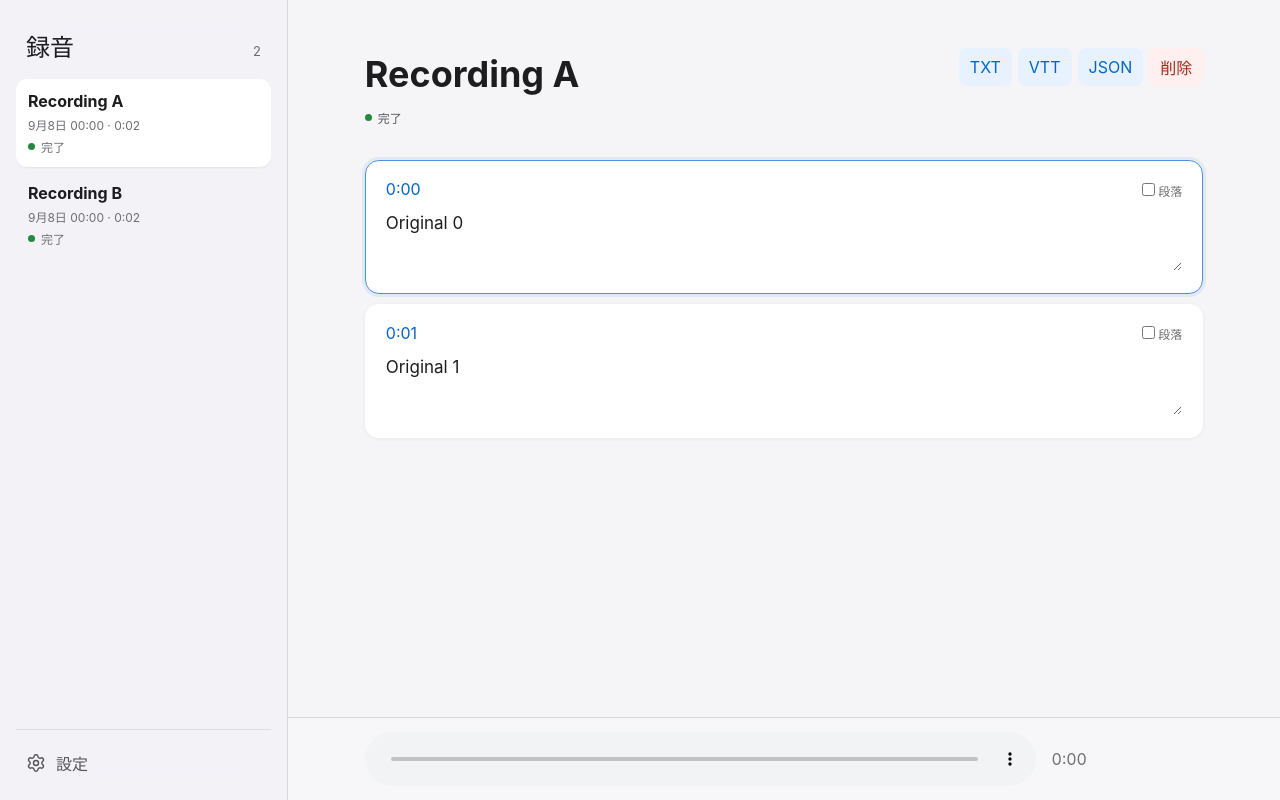
Test: preserves other unsaved text and paragraph edits when saving one utterance
The width and height of the screenshot is (1280, 800).
Replace the text in the text box named "0:00の発話" with "Saved edit": (784, 239) x1=386 y1=208 x2=1182 y2=271
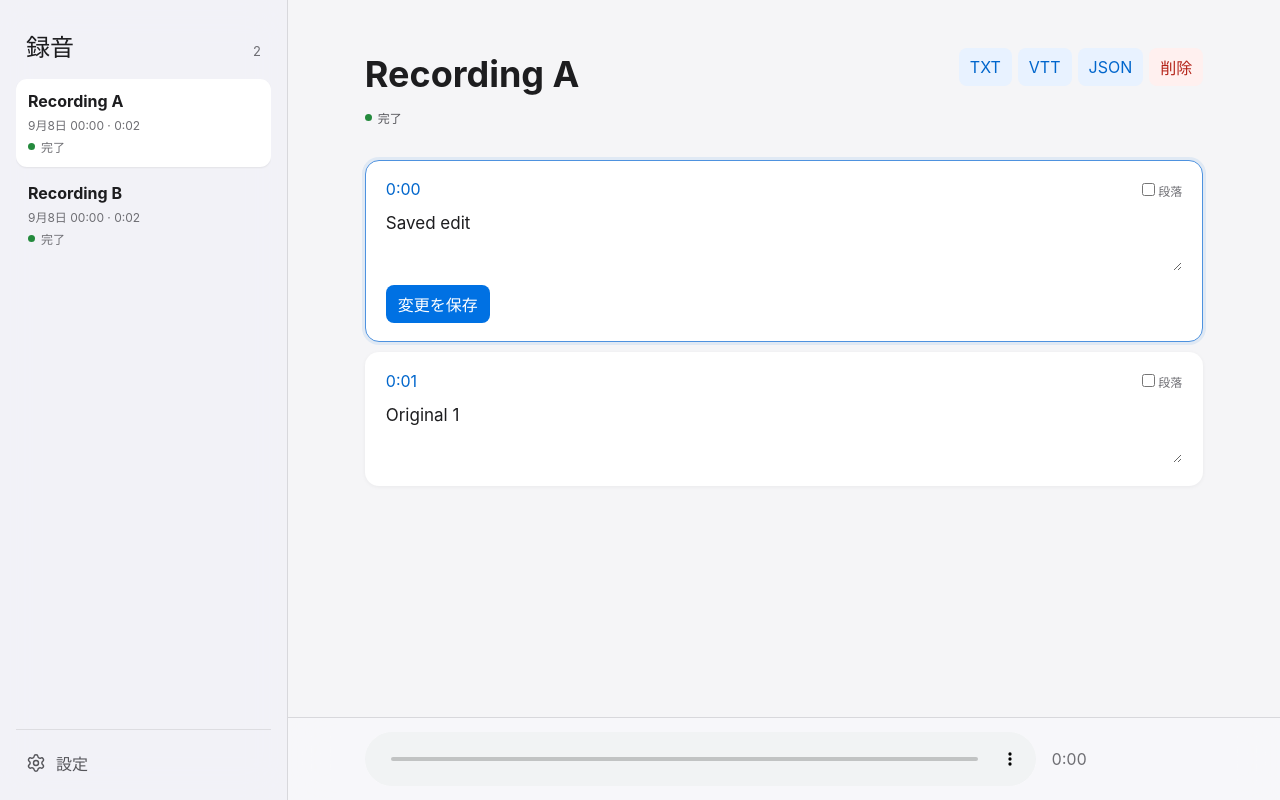
Replace the text in the text box named "0:01の発話" with "Unsaved draft": (784, 431) x1=386 y1=400 x2=1182 y2=463
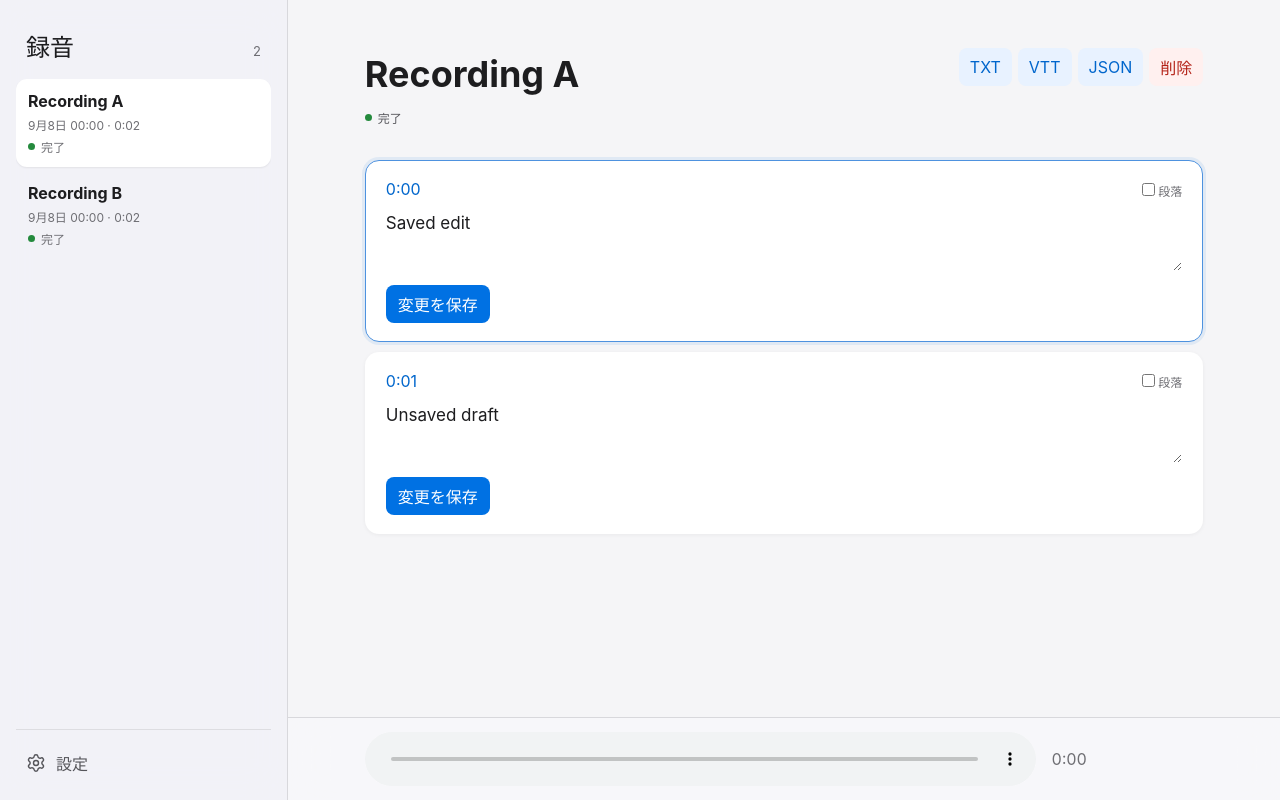
Click the 2nd checkbox labelled "段落": (1149, 381) x1=1142 y1=374 x2=1155 y2=387
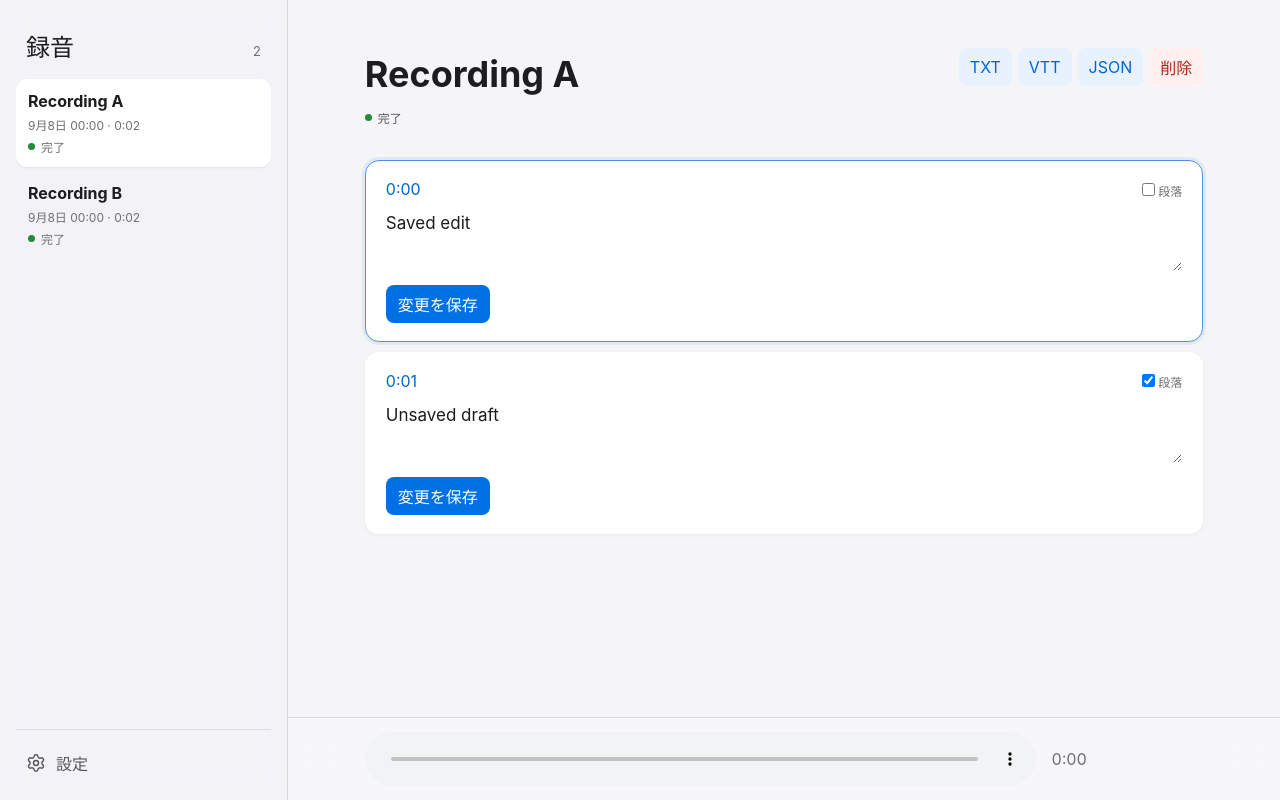
Click the 1st button "変更を保存": (438, 304) x1=386 y1=285 x2=490 y2=323
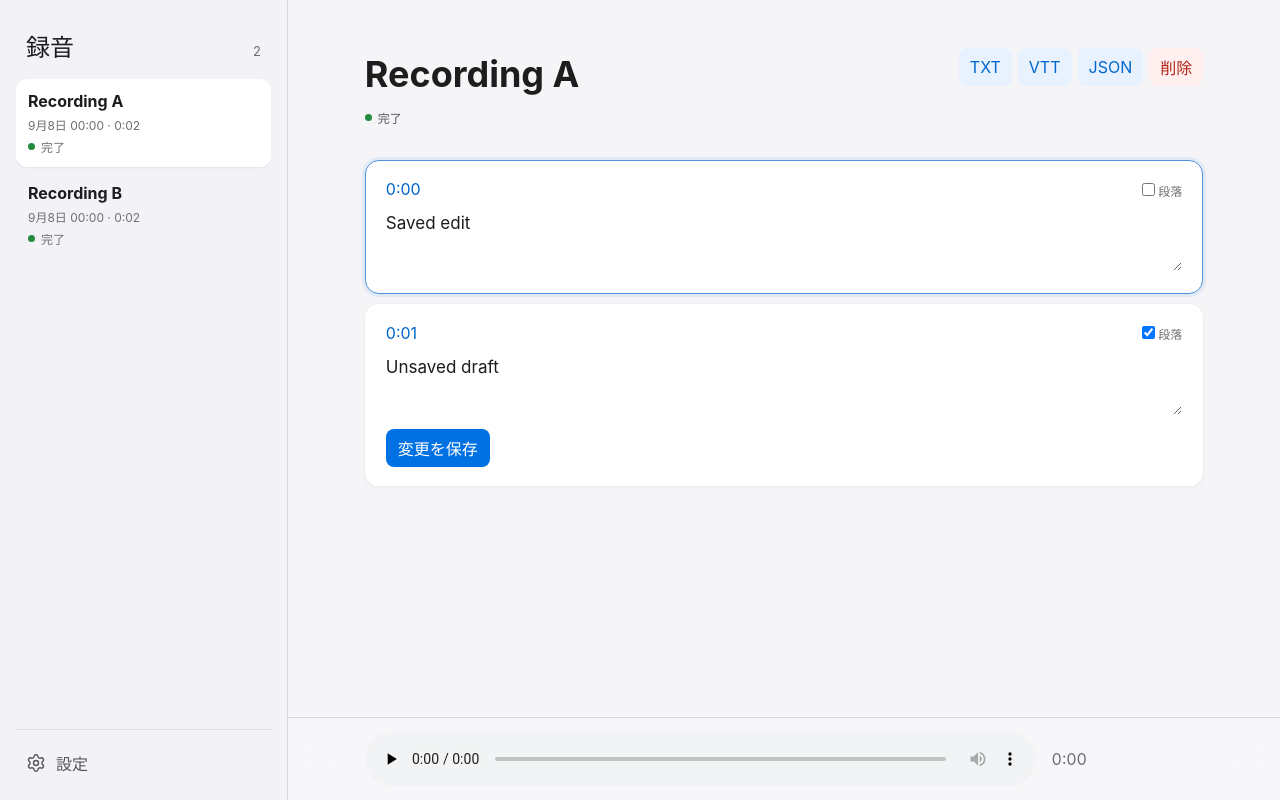
Check: the 2nd checkbox labelled "段落" is checked, box x1=1142 y1=326 x2=1155 y2=339
Check: the number of buttons "変更を保存" is 1, box x1=386 y1=429 x2=490 y2=467
